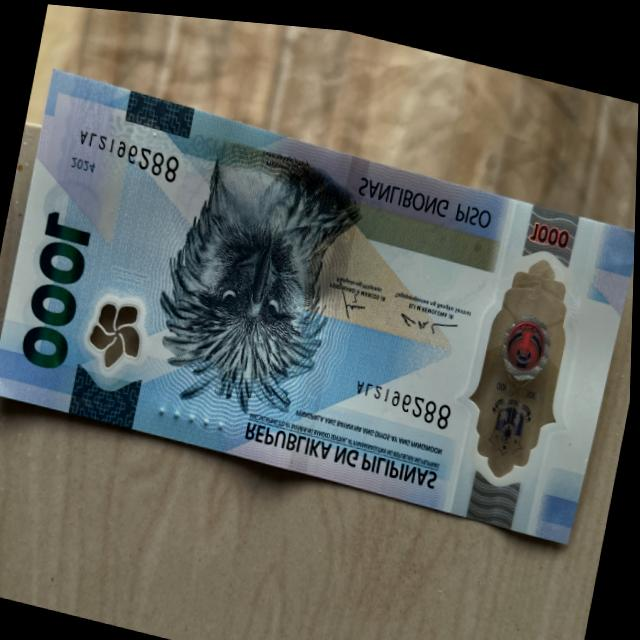clear_window: (448, 190, 593, 501)
eagle: (149, 105, 355, 425)
sampaguita: (81, 288, 149, 380)
